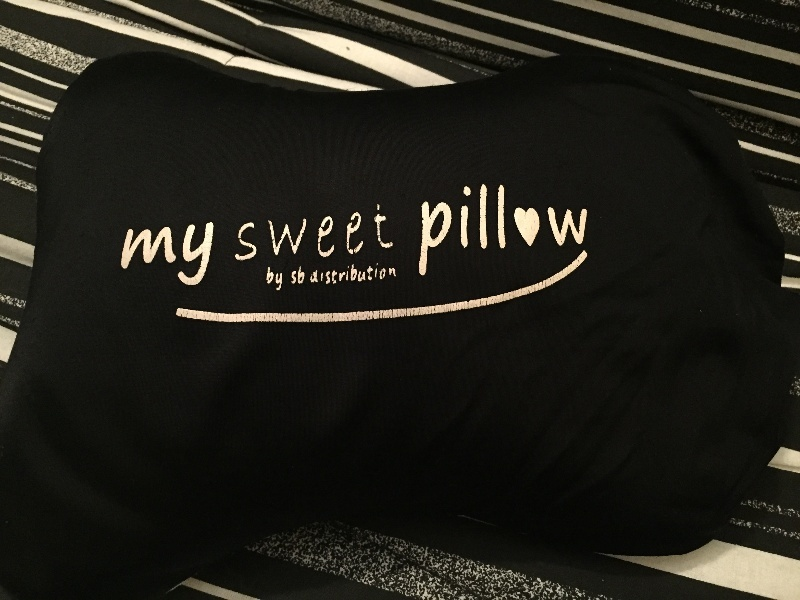text: (433, 184, 448, 277), (449, 184, 464, 277), (465, 184, 480, 277), (481, 184, 496, 277), (497, 184, 512, 277), (513, 184, 528, 277), (529, 184, 544, 277), (545, 184, 560, 277), (561, 184, 576, 277), (577, 184, 590, 277), (129, 222, 144, 287), (145, 222, 160, 287), (161, 222, 176, 287), (177, 222, 192, 287), (193, 222, 208, 287), (422, 184, 432, 277), (241, 202, 256, 263), (257, 202, 272, 263), (273, 202, 288, 263), (289, 202, 304, 263), (305, 202, 320, 263), (321, 202, 336, 263), (337, 202, 352, 263), (353, 202, 368, 263), (369, 202, 384, 263), (385, 202, 396, 263), (209, 222, 215, 287), (321, 262, 336, 286), (337, 262, 352, 286), (353, 262, 368, 286), (369, 262, 384, 286), (123, 222, 128, 287), (385, 262, 397, 286), (273, 267, 283, 292), (292, 266, 304, 284), (311, 262, 320, 286), (267, 267, 272, 292), (238, 202, 240, 263)
